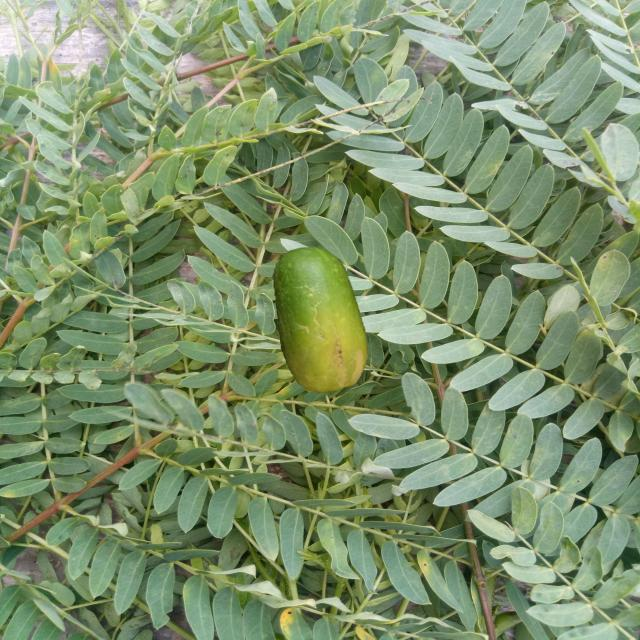Pepaya unrippen: (263, 244, 378, 394)
